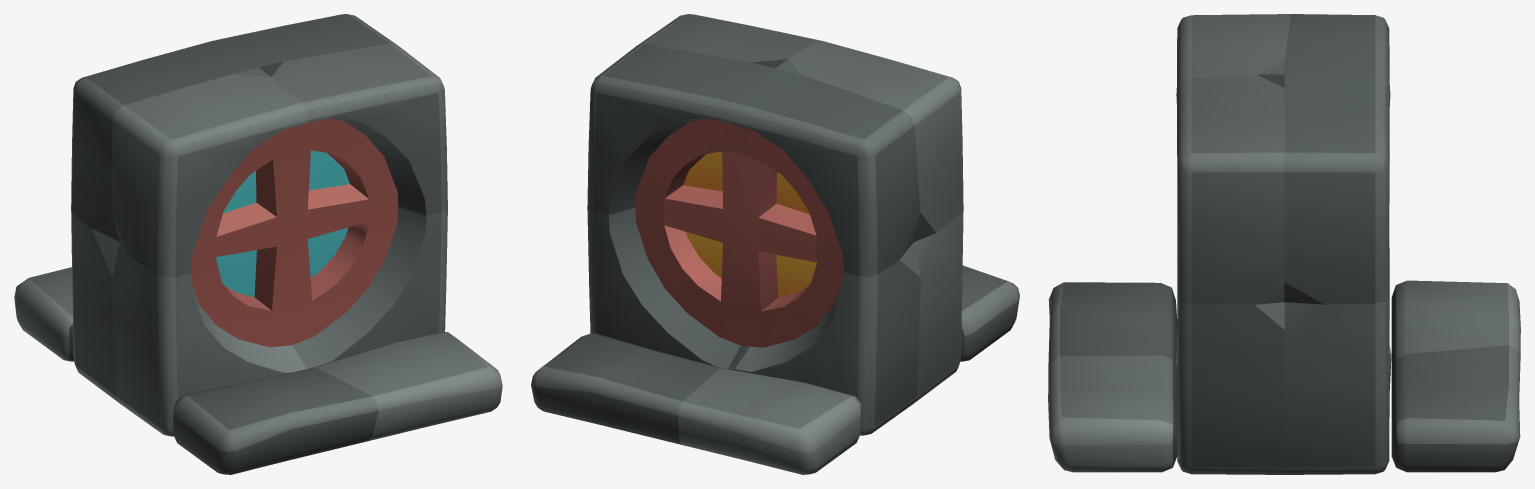
File: tavern_window_circle.fbx
3 views of the same model, side by side, from view 1: azimuth 30°, elevation 25°; view 2: azimuth 150°, elevation 25°; view 3: azimuth 270°, elevation 25° (orthographic). The views are drawn at different scales.
Visible parts, largest first — view 1: tavern_window_circle_LOD0; view 2: tavern_window_circle_LOD0; view 3: tavern_window_circle_LOD0.
Boxes of the visible parts, x1,y1,x2,y2 form: tavern_window_circle_LOD0: (14,14,502,474); tavern_window_circle_LOD0: (531,14,1019,474); tavern_window_circle_LOD0: (1048,14,1520,474).
Size of what is drawn, in the model's own units: 104 by 106 by 134.
